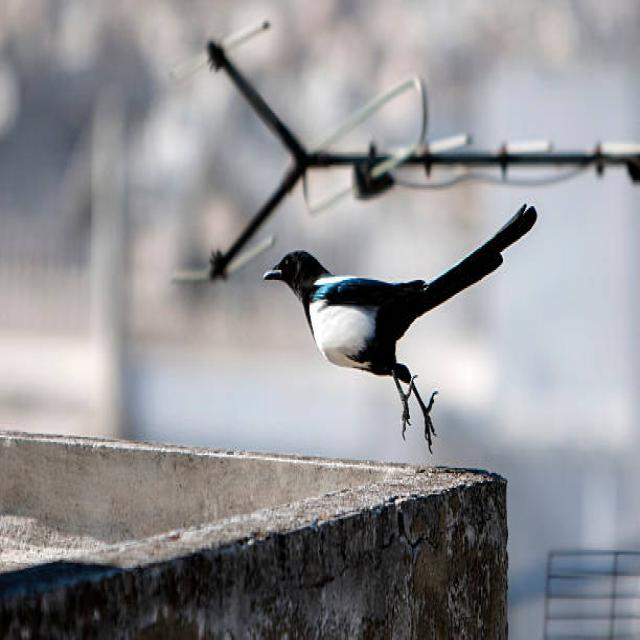Magpie: (258, 199, 540, 455)
